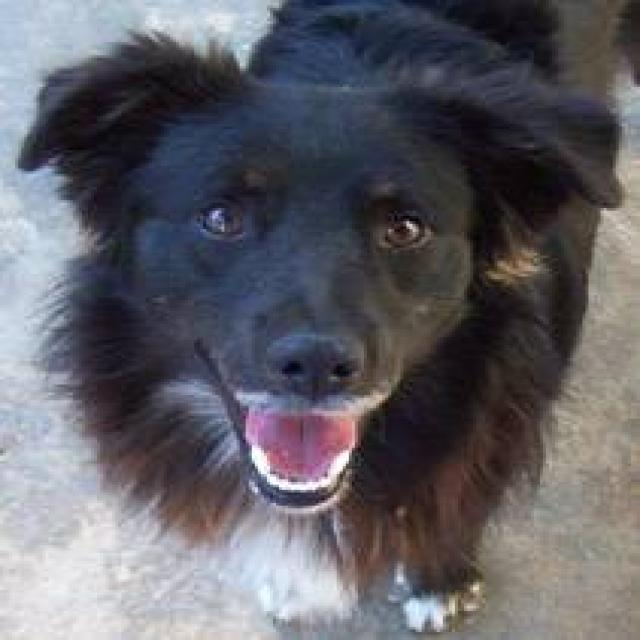dog: (15, 0, 627, 637)
